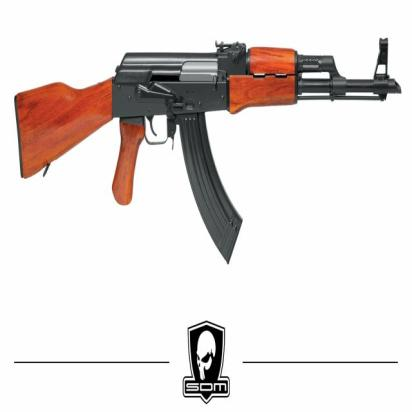Gun: (13, 39, 401, 261)
